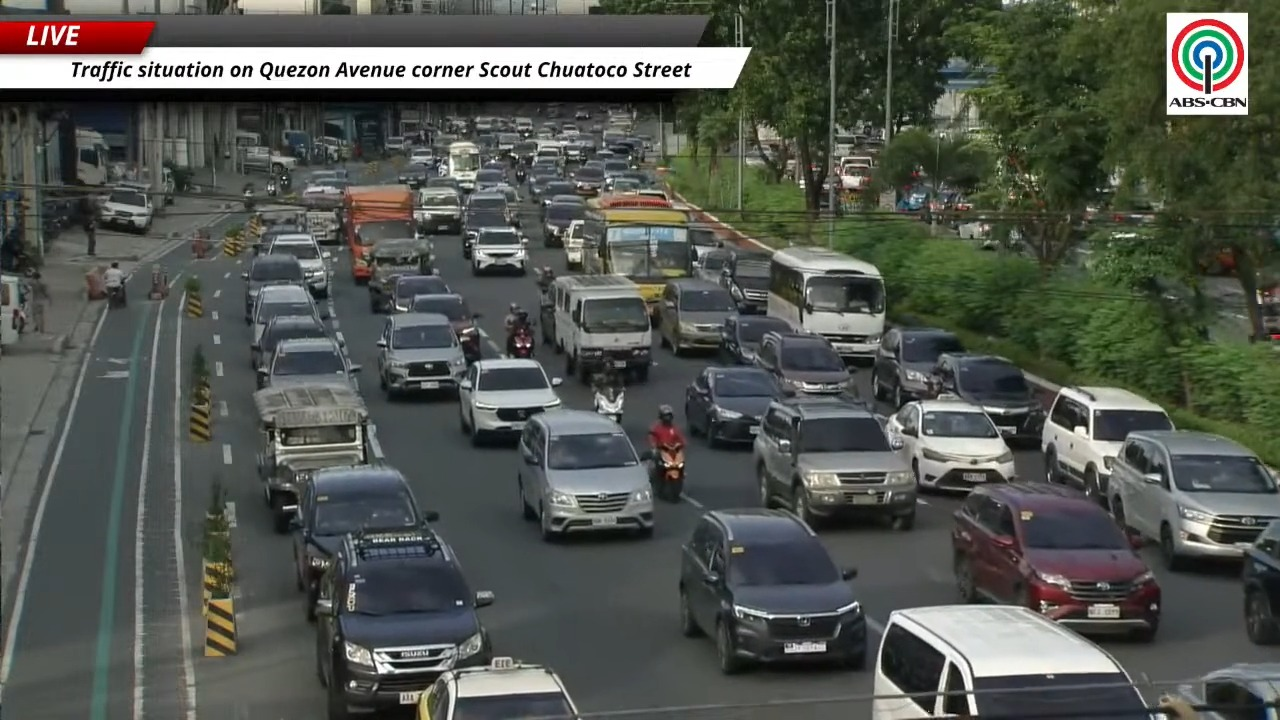bus: (767, 246, 885, 359), (583, 195, 692, 311), (446, 141, 481, 191)
car: (869, 605, 1160, 719), (315, 527, 492, 714), (952, 482, 1161, 640), (679, 509, 866, 673), (1108, 430, 1279, 570), (290, 465, 438, 619), (753, 396, 916, 530), (518, 409, 653, 540), (1041, 386, 1173, 501), (886, 398, 1016, 490), (929, 352, 1044, 444), (418, 657, 577, 719), (459, 358, 561, 444), (684, 366, 781, 445), (377, 313, 465, 397), (872, 327, 964, 407), (754, 330, 852, 394), (658, 278, 735, 355), (257, 338, 360, 388), (366, 239, 434, 313), (1242, 521, 1279, 645), (251, 315, 330, 370), (242, 255, 305, 323), (251, 286, 327, 342), (265, 233, 330, 297), (719, 315, 791, 364), (716, 249, 770, 313), (409, 293, 479, 339), (470, 227, 528, 274), (97, 187, 154, 233), (463, 209, 512, 259), (388, 275, 451, 313), (414, 187, 461, 233), (543, 198, 585, 247), (466, 184, 515, 225), (251, 222, 307, 256), (694, 248, 730, 283), (563, 220, 584, 270), (530, 166, 558, 201), (398, 162, 435, 188), (574, 164, 604, 196), (539, 179, 575, 205), (475, 168, 505, 191), (957, 219, 990, 239), (512, 139, 536, 166), (425, 176, 461, 193), (606, 176, 642, 193), (603, 159, 630, 180), (408, 147, 434, 164), (383, 135, 407, 153), (574, 107, 591, 120)
motorcycle: (650, 443, 684, 502), (595, 387, 624, 423), (459, 329, 481, 365), (510, 326, 533, 358), (106, 285, 126, 308), (242, 186, 255, 211), (267, 179, 279, 196), (515, 167, 526, 183)
truck: (343, 185, 419, 283), (301, 186, 342, 244), (75, 128, 109, 185), (241, 145, 296, 174)
